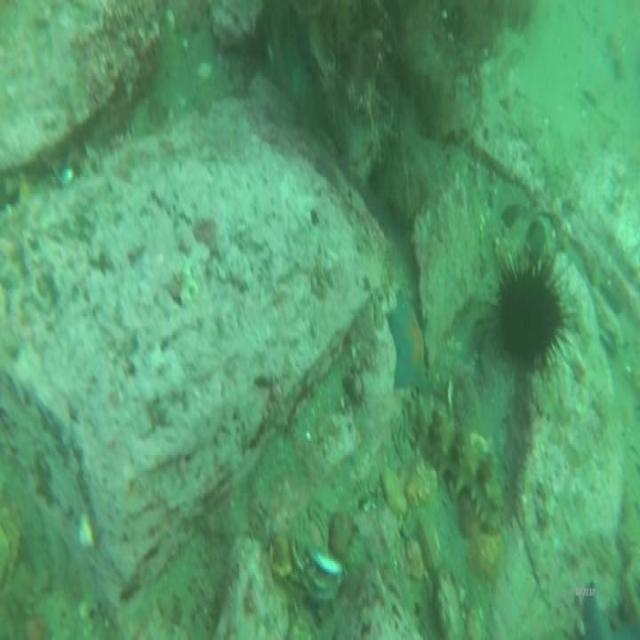echinus: (498, 272, 562, 366)
holothurian: (414, 404, 504, 524)
starfish: (388, 294, 428, 392)
